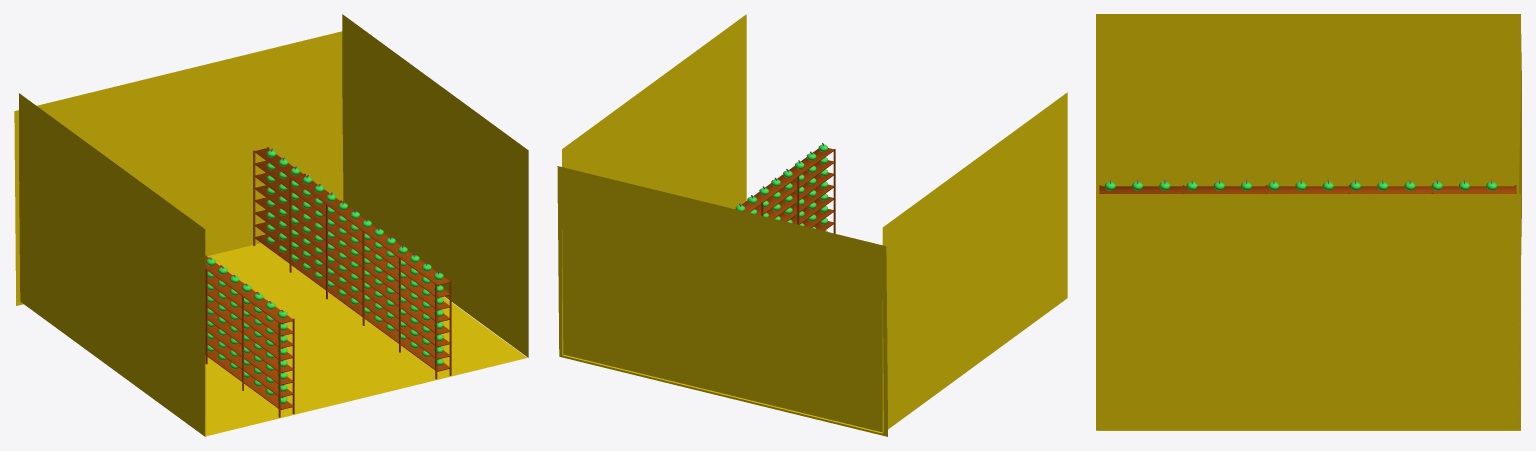
File: neoprene_background.gltf
3 views of the same model, side by side, from view 1: azimuth 30°, elevation 25°; view 2: azimuth 150°, elevation 25°; view 3: azimuth 270°, elevation 25° (orthographic). The views are drawn at different scales.
Parts seen in each view (by area): view 1: side walls, back wall, neoprene_background, shelves, neoprene_note.003, Cube; view 2: back wall, side walls, shelves, neoprene_note.003, neoprene_background; view 3: side walls, shelves, neoprene_note.003, neoprene_background.
Part boxes in pixels (x1,y1,x2,y2): side walls: (19, 14, 528, 436); back wall: (14, 31, 343, 305); neoprene_background: (205, 243, 526, 436); shelves: (205, 148, 450, 409); neoprene_note.003: (206, 148, 443, 404); Cube: (205, 147, 451, 417); back wall: (557, 166, 887, 436); side walls: (562, 14, 1067, 432); shelves: (735, 148, 833, 230); neoprene_note.003: (735, 143, 827, 231); neoprene_background: (562, 354, 882, 433); side walls: (1096, 14, 1520, 430); shelves: (1099, 186, 1515, 193); neoprene_note.003: (1105, 179, 1497, 190); neoprene_background: (1098, 430, 1520, 430).
Bounding box in the file's own units: 12.78 × 7.78 × 12.46.
